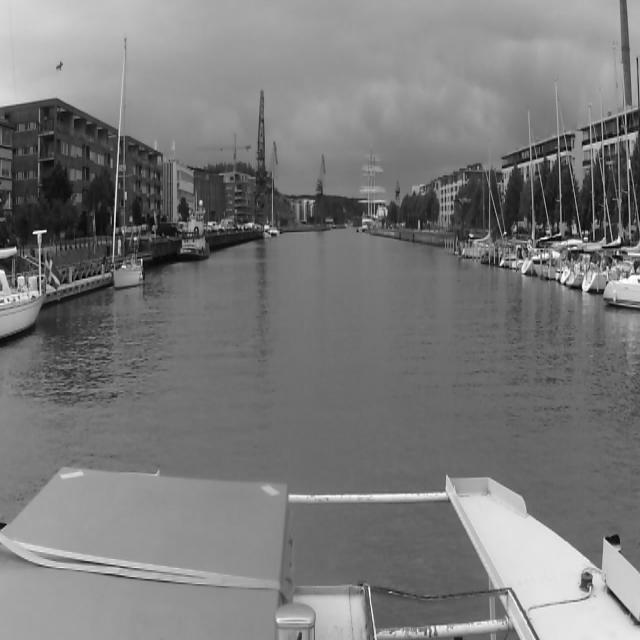ship: (0, 0, 54, 346), (579, 39, 635, 300), (521, 86, 585, 280), (110, 32, 146, 287), (459, 159, 509, 261), (359, 150, 387, 227), (180, 199, 212, 262), (270, 174, 279, 238), (262, 221, 270, 239)
